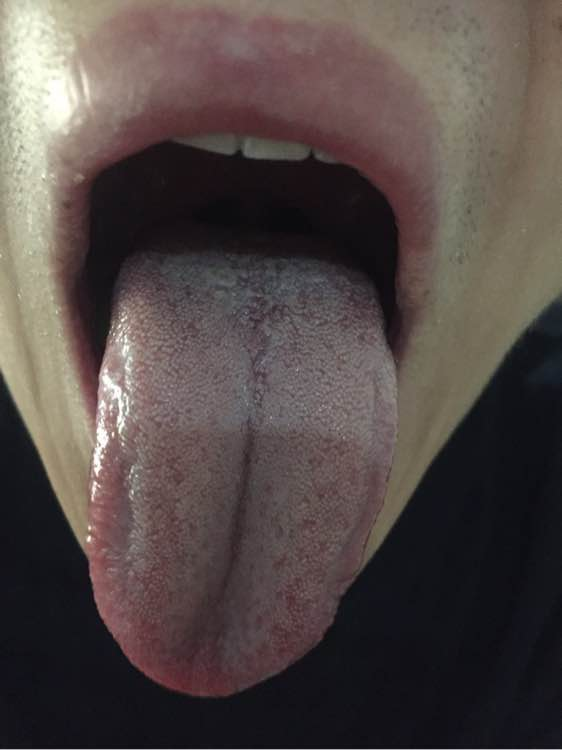baitaishe: (88, 230, 399, 697)
gandanao: (89, 314, 160, 638)
liewenshe: (212, 342, 268, 612)
